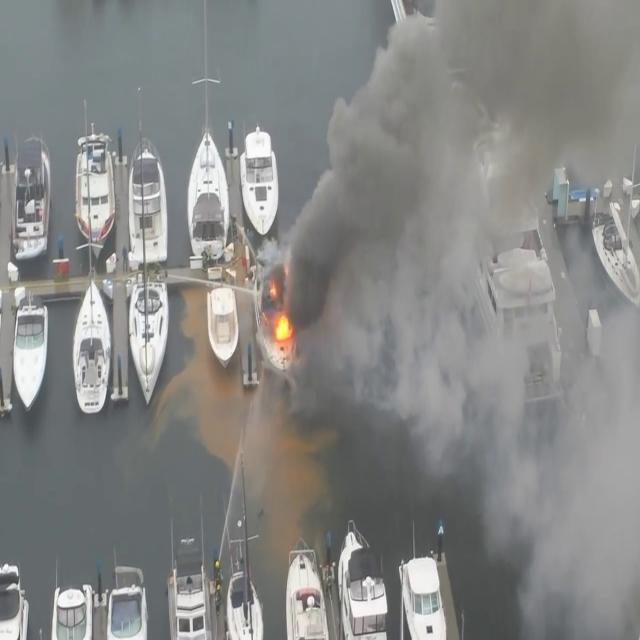Fire: (268, 296, 294, 350)
Smoke: (285, 0, 640, 639)
